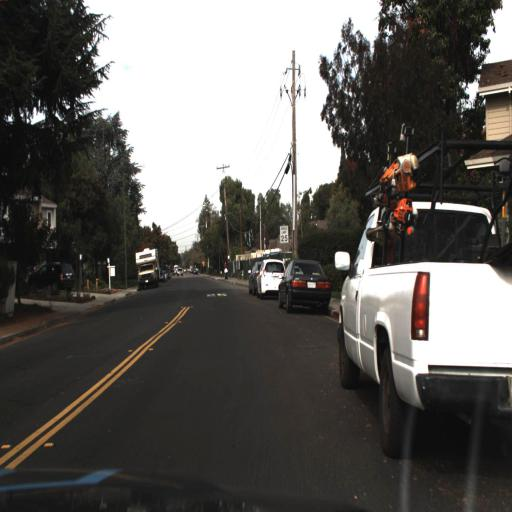car: (334, 194, 512, 467), (276, 254, 327, 315), (29, 259, 76, 294), (254, 254, 286, 302), (253, 259, 287, 301)
truck: (133, 245, 158, 289)
